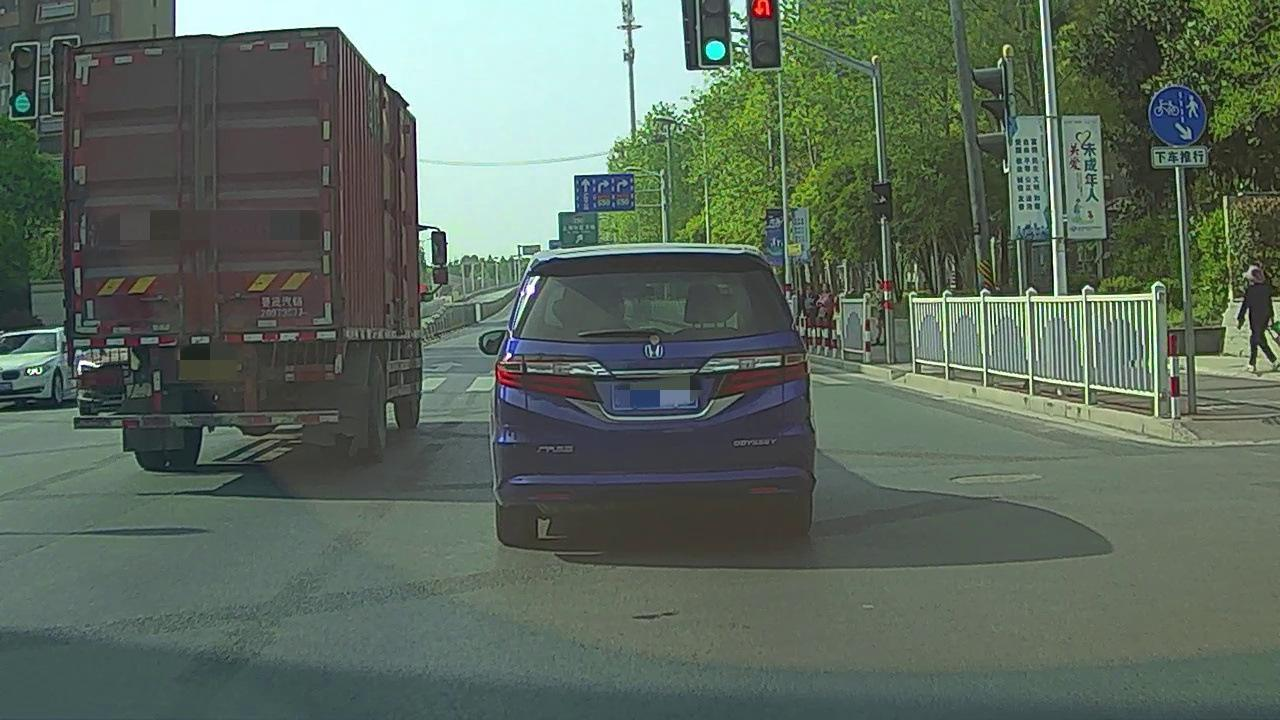traffic_light: (749, 14, 779, 68), (697, 17, 730, 64)
